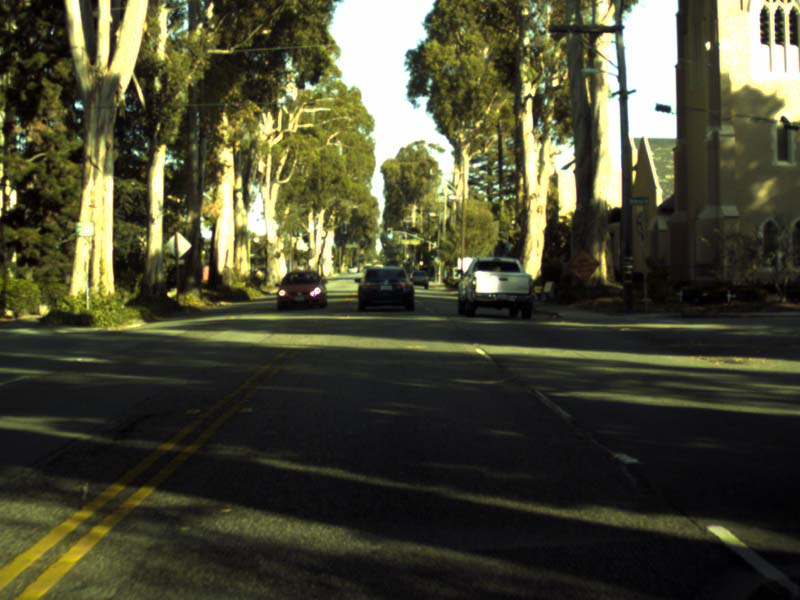Green: (385, 228, 392, 239), (430, 251, 434, 258)
